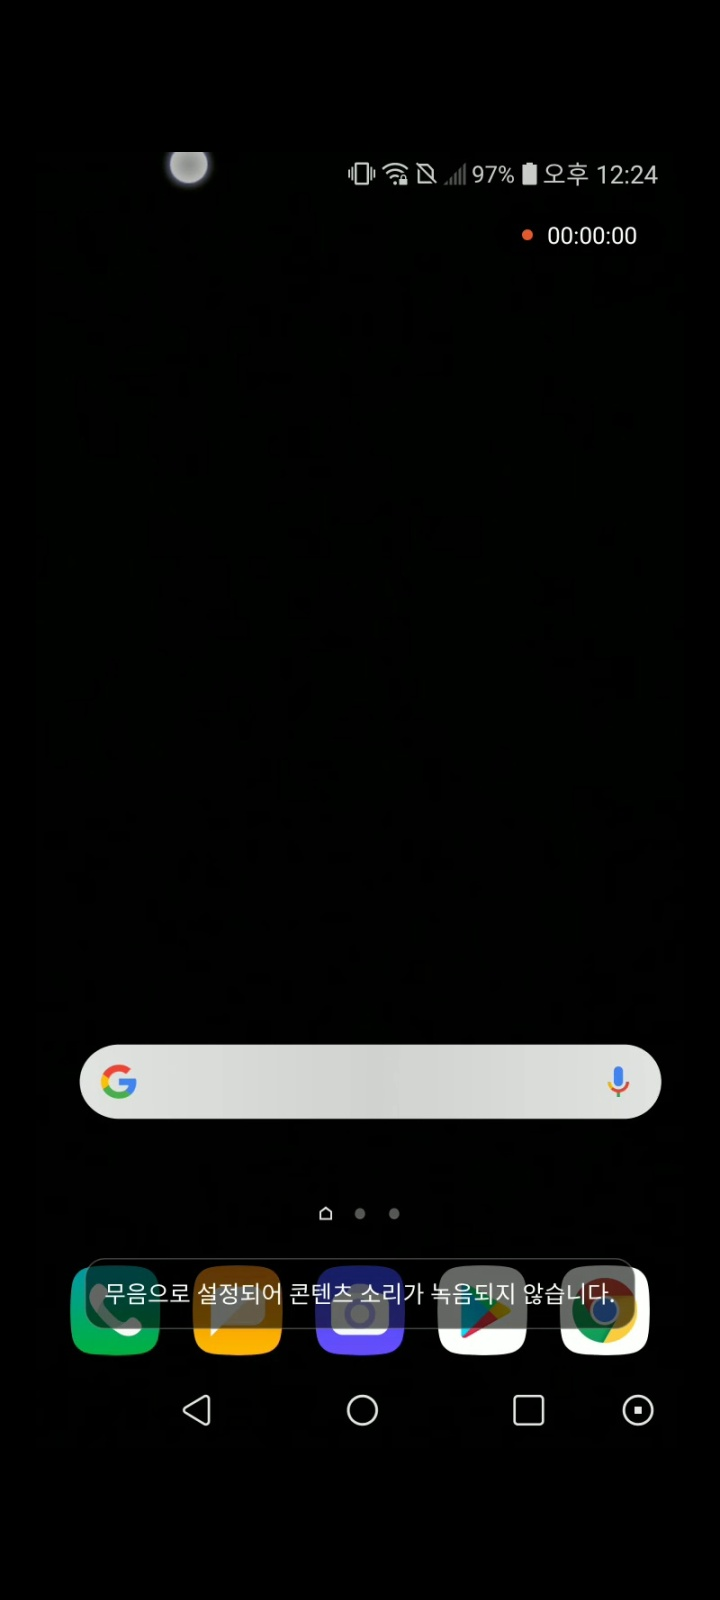Cursor: (167, 153, 211, 190)
